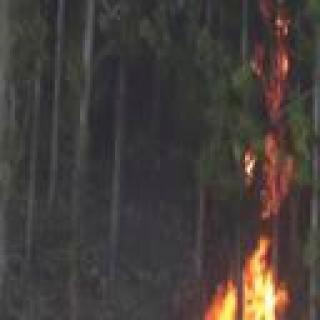fire: (168, 238, 320, 320)
